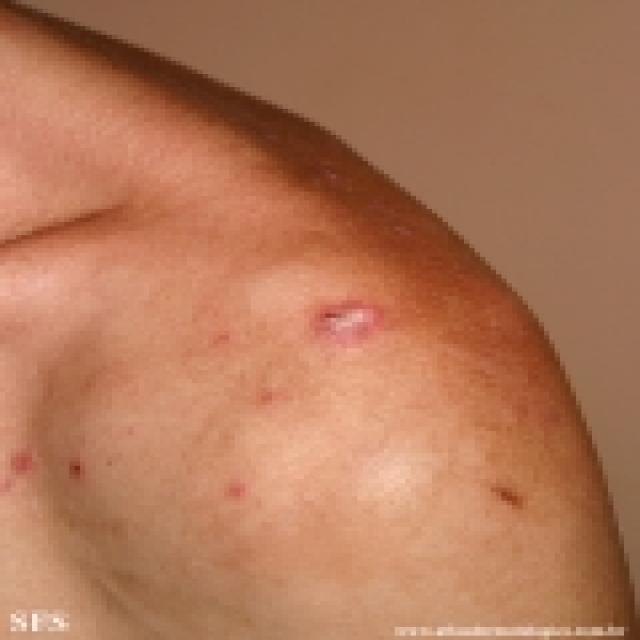lupus: (294, 282, 399, 368)
